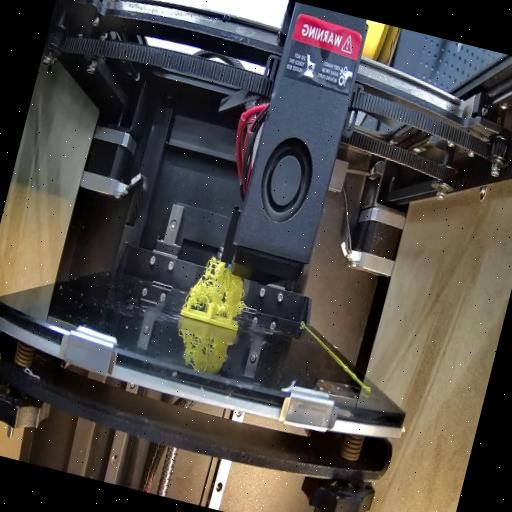spaghetti: (188, 255, 253, 315)
